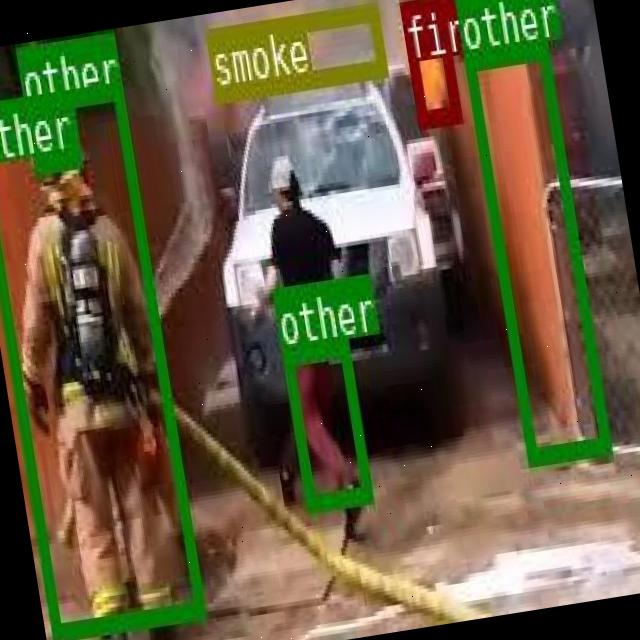fire: (398, 0, 460, 123)
smoke: (203, 3, 384, 100)
